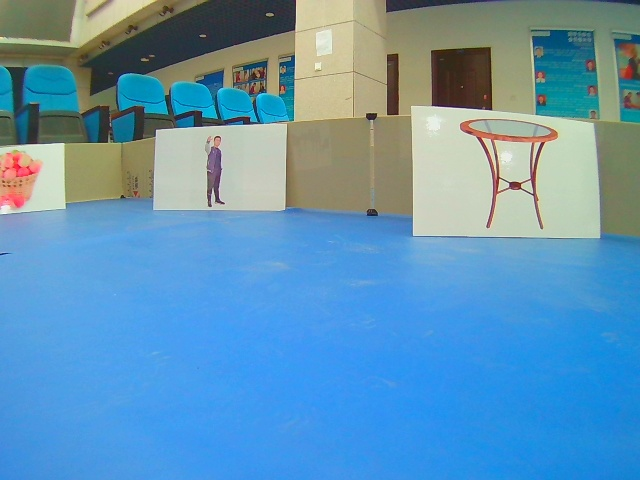person: (155, 124, 286, 212)
table: (411, 105, 602, 240)
